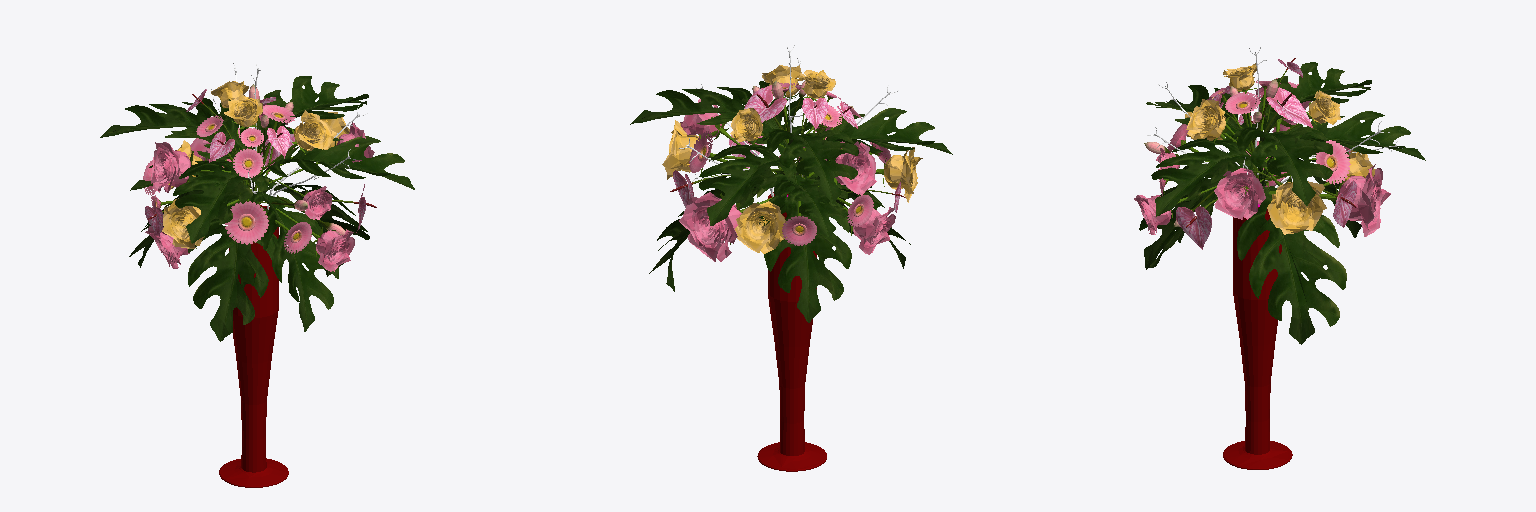
3 renders of one model, left to right at view 1: azimuth 30°, elevation 25°; view 2: azimuth 150°, elevation 25°; view 3: azimuth 270°, elevation 25°, orthographic.
Visible parts, largest first — view 1: vas_Vas_opt_Flower_vas_glass1, vas_Vas_opt_Flower_vas_leaf9, vas_Vas_opt_Flower_vas_leaf5, vas_Vas_opt_Flower_vas_leaf2, vas_Vas_opt_Flower_vas_leaf1, vas_Vas_opt_Flower_vas_leaf6, vas_Vas_opt_Flower_vas_leaf4, vas_group1_pasted__Flower_vas_group_pasted__rose_pink4, vas_Flower_vas_gerbera2, vas_group1_pasted__Flower_vas_group_pasted__rose_pink11, group1_pasted__Flower_vas_group_pasted__rose_yellow6, vas_group1_pasted__Flower_vas_group_pasted__rose_yellow7 (+7 smaller); view 2: vas_Vas_opt_Flower_vas_glass1, vas_Vas_opt_Flower_vas_leaf8, vas_Vas_opt_Flower_vas_leaf, vas_Vas_opt_Flower_vas_leaf6, vas_group1_pasted__Flower_vas_group_pasted__rose_pink8, vas_Vas_opt_Flower_vas_leaf2, vas_Vas_opt_Flower_vas_leaf4, vas_group1_pasted__Flower_vas_group_pasted__rose_yellow8, vas_Vas_opt_Flower_vas_leaf3, vas_group1_pasted__Flower_vas_group_pasted__rose_pink4, vas_group1_pasted__Flower_vas_group_pasted__rose_yellow7, vas_group1_pasted__Flower_vas_group_pasted__rose_yellow4 (+12 smaller); view 3: vas_Vas_opt_Flower_vas_glass1, vas_Vas_opt_Flower_vas_leaf7, vas_Vas_opt_Flower_vas_leaf4, vas_Vas_opt_Flower_vas_leaf1, vas_Vas_opt_Flower_vas_leaf, vas_group1_pasted__Flower_vas_group_pasted__rose_yellow4, vas_group1_pasted__Flower_vas_group_pasted__rose_pink7, vas_Vas_opt_Flower_vas_leaf6, vas_group1_pasted__Flower_vas_group_pasted__rose_pink8, vas_Vas_opt_Flower_vas_leaf5, group1_pasted__Flower_vas_group_pasted__rose_yellow6, vas_Vas_opt_Flower_vas_leaf2 (+9 smaller).
Part boxes in pixels (left/top/right/bottom): vas_Vas_opt_Flower_vas_glass1: left=219, top=205, right=288, bottom=487; vas_Vas_opt_Flower_vas_leaf9: left=188, top=199, right=277, bottom=341; vas_Vas_opt_Flower_vas_leaf5: left=249, top=191, right=338, bottom=331; vas_Vas_opt_Flower_vas_leaf2: left=173, top=160, right=272, bottom=243; vas_Vas_opt_Flower_vas_leaf1: left=254, top=136, right=414, bottom=189; vas_Vas_opt_Flower_vas_leaf6: left=100, top=102, right=246, bottom=150; vas_Vas_opt_Flower_vas_leaf4: left=258, top=76, right=368, bottom=148; vas_group1_pasted__Flower_vas_group_pasted__rose_pink4: left=151, top=142, right=263, bottom=192; vas_Flower_vas_gerbera2: left=225, top=201, right=268, bottom=244; vas_group1_pasted__Flower_vas_group_pasted__rose_pink11: left=266, top=202, right=354, bottom=271; group1_pasted__Flower_vas_group_pasted__rose_yellow6: left=263, top=110, right=333, bottom=169; vas_group1_pasted__Flower_vas_group_pasted__rose_yellow7: left=162, top=198, right=239, bottom=248; vas_Vas_opt_Flower_vas_glass1: left=757, top=192, right=826, bottom=471; vas_Vas_opt_Flower_vas_leaf8: left=757, top=173, right=851, bottom=322; vas_Vas_opt_Flower_vas_leaf: left=699, top=145, right=797, bottom=225; vas_Vas_opt_Flower_vas_leaf6: left=763, top=129, right=858, bottom=204; vas_group1_pasted__Flower_vas_group_pasted__rose_pink8: left=679, top=192, right=772, bottom=261; vas_Vas_opt_Flower_vas_leaf2: left=798, top=108, right=952, bottom=162; vas_Vas_opt_Flower_vas_leaf4: left=630, top=87, right=787, bottom=146; vas_group1_pasted__Flower_vas_group_pasted__rose_yellow8: left=735, top=201, right=786, bottom=253; vas_Vas_opt_Flower_vas_leaf3: left=771, top=180, right=847, bottom=237; vas_group1_pasted__Flower_vas_group_pasted__rose_pink4: left=771, top=141, right=876, bottom=195; vas_group1_pasted__Flower_vas_group_pasted__rose_yellow7: left=875, top=147, right=922, bottom=202; vas_group1_pasted__Flower_vas_group_pasted__rose_yellow4: left=662, top=120, right=743, bottom=179; vas_Vas_opt_Flower_vas_glass1: left=1223, top=207, right=1292, bottom=469; vas_Vas_opt_Flower_vas_leaf7: left=1237, top=186, right=1346, bottom=344; vas_Vas_opt_Flower_vas_leaf4: left=1233, top=126, right=1332, bottom=205; vas_Vas_opt_Flower_vas_leaf1: left=1151, top=138, right=1266, bottom=216; vas_Vas_opt_Flower_vas_leaf: left=1262, top=111, right=1425, bottom=177; vas_group1_pasted__Flower_vas_group_pasted__rose_yellow4: left=1264, top=167, right=1326, bottom=234; vas_group1_pasted__Flower_vas_group_pasted__rose_pink7: left=1214, top=168, right=1265, bottom=219; vas_Vas_opt_Flower_vas_leaf6: left=1259, top=62, right=1371, bottom=180; vas_group1_pasted__Flower_vas_group_pasted__rose_pink8: left=1319, top=164, right=1390, bottom=236; vas_Vas_opt_Flower_vas_leaf5: left=1139, top=152, right=1239, bottom=269; group1_pasted__Flower_vas_group_pasted__rose_yellow6: left=1186, top=99, right=1251, bottom=154; vas_Vas_opt_Flower_vas_leaf2: left=1146, top=85, right=1267, bottom=183.
Bounding box in the file's own units: 18.58 × 29.3 × 18.92.
Materials: 9 (6 with a texture image).